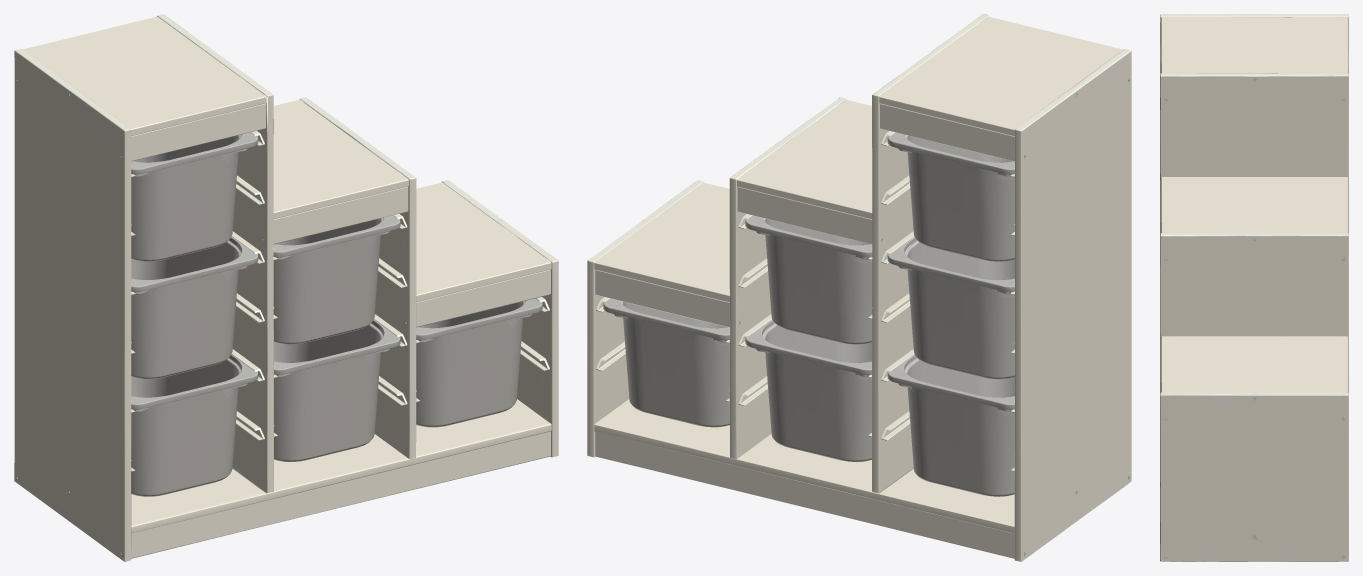
File: trofast_rega_z_pojemnikami_49573323.glb
The picture shows the model from 3 angles, left to right: view 1: azimuth 30°, elevation 25°; view 2: azimuth 150°, elevation 25°; view 3: azimuth 270°, elevation 25°; orthographic projection. The views are drawn at different scales.
Visible parts, largest first — view 1: trofast_rega_z_pojemnikami_49573323; view 2: trofast_rega_z_pojemnikami_49573323; view 3: trofast_rega_z_pojemnikami_49573323.
Part boxes in pixels (x1=…): trofast_rega_z_pojemnikami_49573323: x1=14, y1=14, x2=558, y2=561; trofast_rega_z_pojemnikami_49573323: x1=587, y1=14, x2=1131, y2=561; trofast_rega_z_pojemnikami_49573323: x1=1160, y1=14, x2=1348, y2=561.
Size of the model in its own units: 0.989 by 0.9373 by 0.4363.
2 materials, 2 textured.
